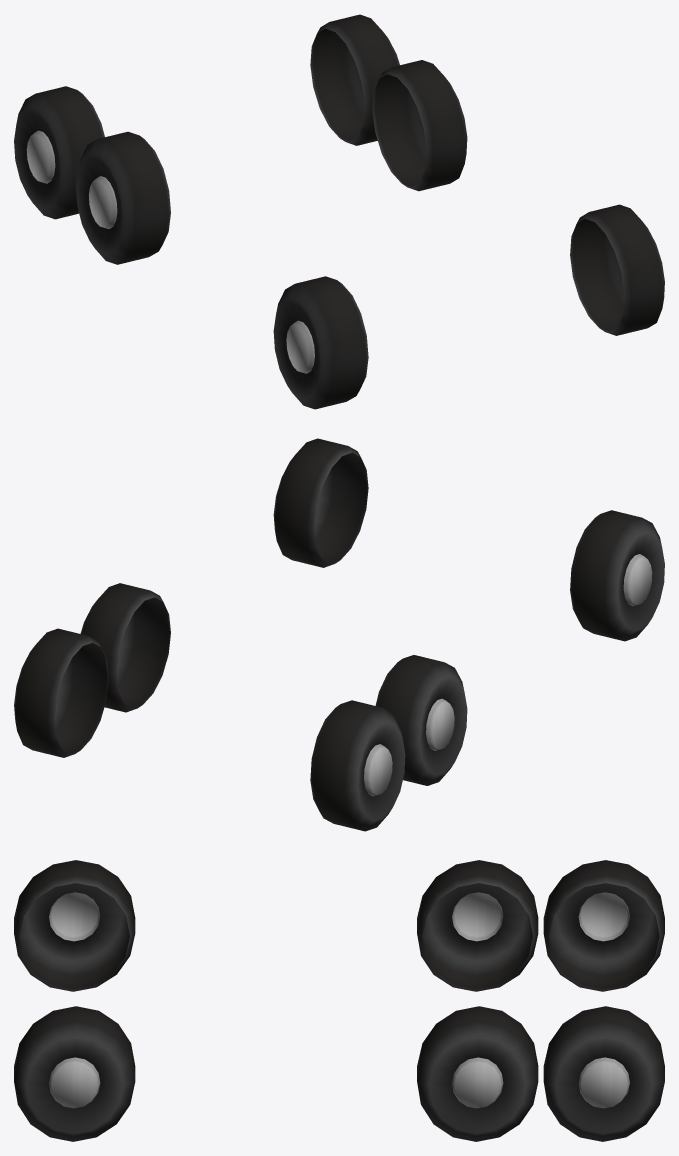
Rendered from car_wheel.fbx.
The picture shows the model from 3 angles, top to bottom: view 1: azimuth 30°, elevation 25°; view 2: azimuth 150°, elevation 25°; view 3: azimuth 270°, elevation 25°; orthographic projection.
Visible parts, largest first — view 1: car_wheel; view 2: car_wheel; view 3: car_wheel.
Part boxes in pixels (x1,y1,x2,y2): car_wheel: (14, 14, 664, 409); car_wheel: (14, 438, 664, 831); car_wheel: (14, 860, 664, 1141).
Size of the model in its own units: 72.67 by 23.16 by 116.
